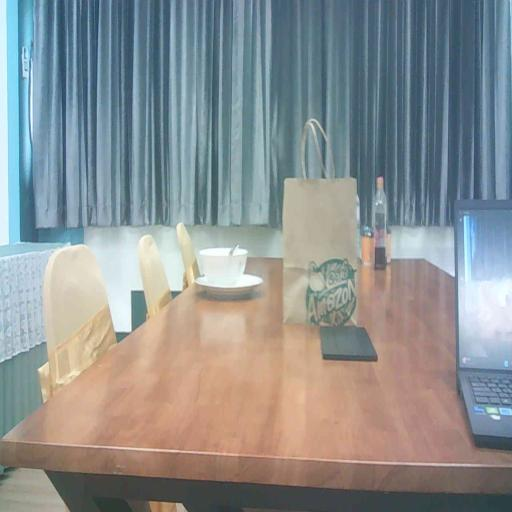bag: (283, 173, 357, 328)
